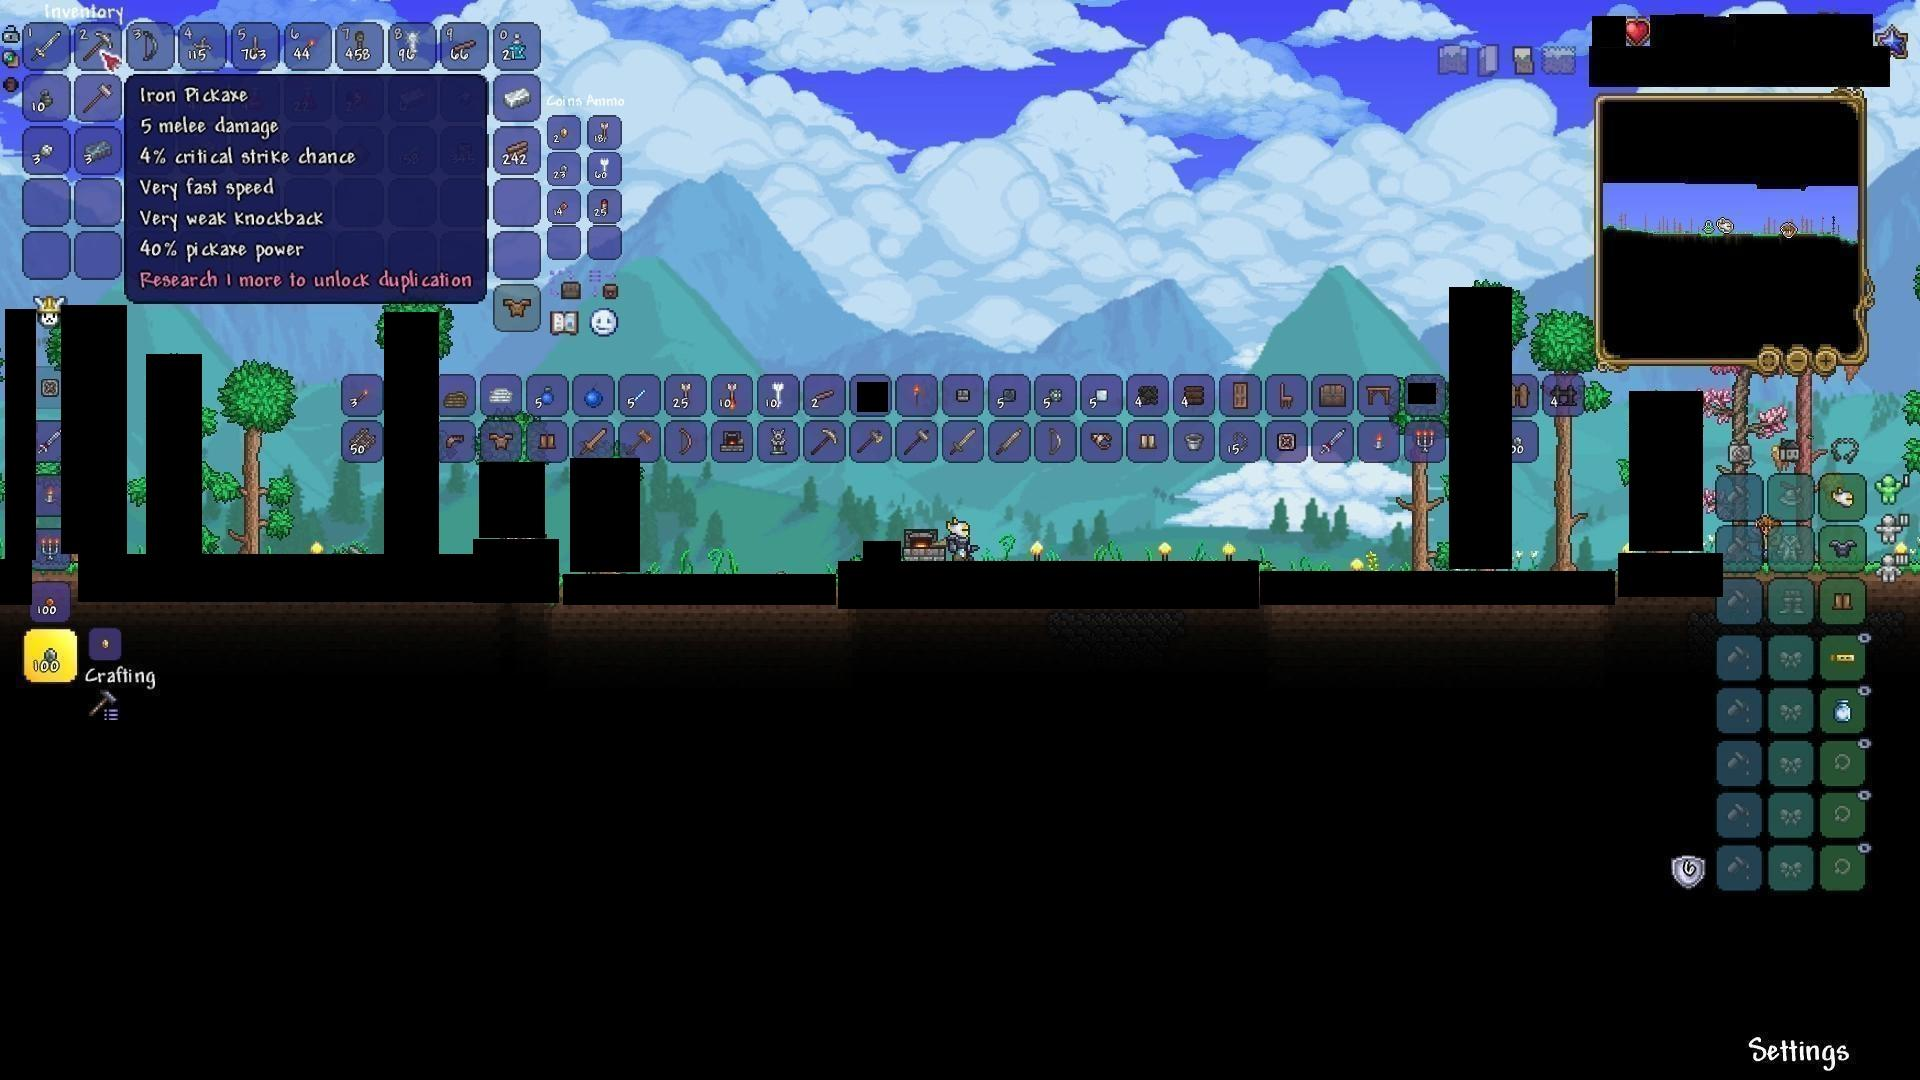breastplate: (502, 295, 533, 320), (1829, 539, 1857, 559)
heart: (1625, 15, 1651, 44)
helmet: (443, 429, 467, 450)
legs: (1137, 426, 1160, 458), (1830, 589, 1857, 615)
tree: (214, 371, 305, 553), (1534, 301, 1592, 570), (1390, 462, 1452, 568)
wood: (502, 138, 533, 167)
